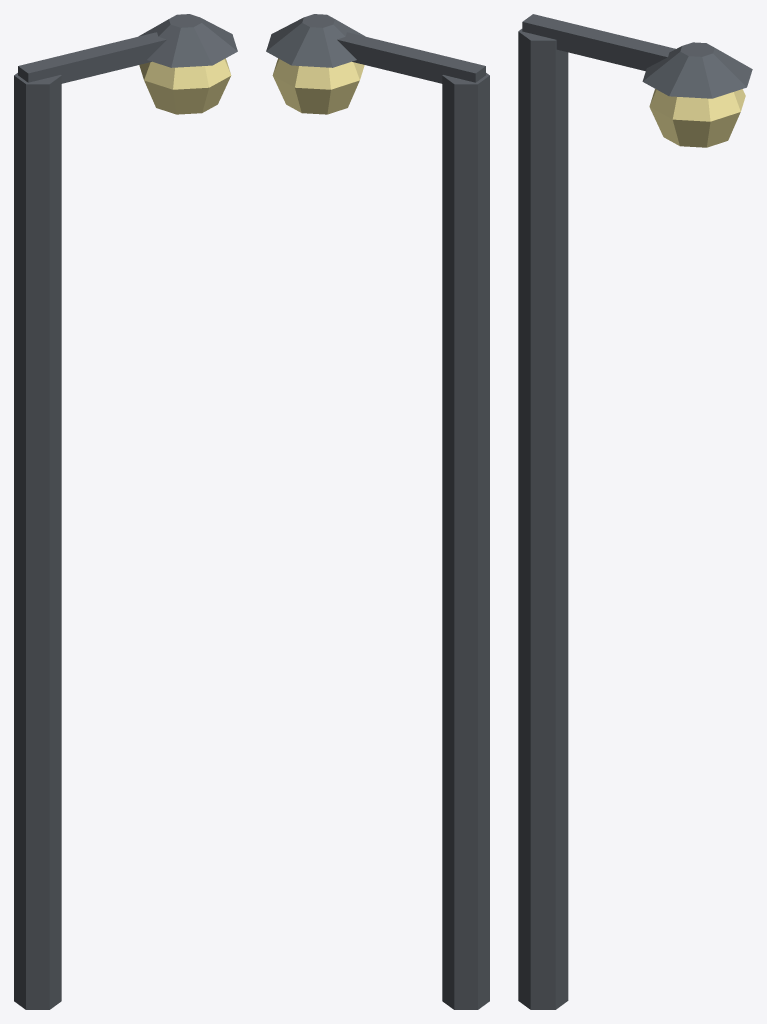
File: lamp.glb
3 renders of one model, left to right at view 1: azimuth 30°, elevation 25°; view 2: azimuth 150°, elevation 25°; view 3: azimuth 330°, elevation 25°, orthographic. The views are drawn at different scales.
Parts seen in each view (by area): view 1: lamp; view 2: lamp; view 3: lamp.
Boxes of the visible parts, x1,y1,x2,y2 form: lamp: (14, 14, 237, 1009); lamp: (266, 14, 489, 1009); lamp: (518, 14, 752, 1009).
Size of the model in its own units: 0.7206 by 3.06 by 0.32.
Materials: 1 (1 with a texture image).
